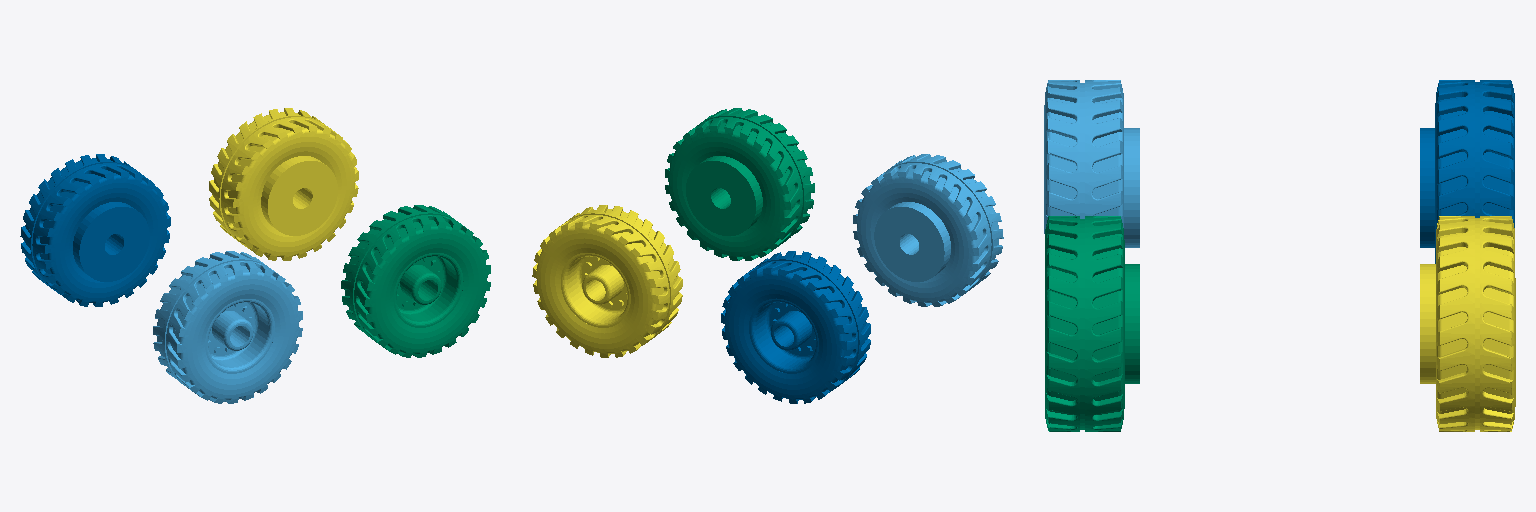
robot.urdf — bobcat-330s:
<?xml version="1.0" ?>
<robot name="bobcat-330s">



<link name="base_link">
  <inertial>
    <origin rpy="0 0 0" xyz="-0.29170401469522367 0.004971637347210251 0.7284934442045696"/>
    <mass value="2365"/>
    <inertia ixx="5628.0162182817285" ixy="2.4416892505657586" ixz="745.4541965134918" iyy="9309.898666110948" iyz="0.06741359436135497" izz="10573.428316139072"/>
  </inertial>
  <visual>
    <origin rpy="0 0 0" xyz="0 0 0"/>
    <geometry>
      <mesh filename="meshes/base_link.stl" scale="0.001 0.001 0.001"/>
    </geometry>

  </visual>
  <collision>
    <origin rpy="0 0 0" xyz="0 0 0"/>
    <geometry>
      <mesh filename="meshes/base_link.stl" scale="0.001 0.001 0.001"/>
    </geometry>
  </collision>
</link>

<link name="base_link1exel_641">
    <contact>
      <lateral_friction value=".8"/>
      <rolling_friction value="0.0"/>
      <stiffness value="300000"/>
      <damping value="10000"/>
    </contact>

  <inertial>
    <origin rpy="0 0 0" xyz="-8.044513555116595e-05 0.15796911018747128 2.572880642870423e-06"/>
    <mass value="50"/>
    <inertia ixx="57.587582324585696" ixy="-0.01953915141757534" ixz="-0.0003163463438227154" iyy="96.06267594298868" iyz="-0.00027627143111885744" izz="57.58765084877268"/>
  </inertial>
  <visual>
    <origin rpy="0 0 0" xyz="0.661731 0.880337 -0.415921"/>
    <geometry>
      <mesh filename="meshes/base_link1exel_641.stl" scale="0.001 0.001 0.001"/>
    </geometry>

  </visual>
  <collision>
    <origin rpy="0 0 0" xyz="0.661731 0.880337 -0.415921"/>
    <geometry>
      <mesh filename="meshes/base_link1exel_641.stl" scale="0.001 0.001 0.001"/>
    </geometry>
  </collision>
</link>

<link name="base_link1exel_631">
    <contact>
      <lateral_friction value=".8"/>
      <rolling_friction value="0.0"/>
      <stiffness value="300000"/>
      <damping value="10000"/>
    </contact>

  <inertial>
    <origin rpy="0 0 0" xyz="-8.018334581239017e-05 0.1579689917452647 2.5728806462566034e-06"/>
    <mass value="50"/>
    <inertia ixx="57.58758248482047" ixy="-0.019696513965300255" ixz="-0.00022570406440536317" iyy="96.06269607747356" iyz="-0.0002762252806860488" izz="57.58767114349075"/>
  </inertial>
  <visual>
    <origin rpy="0 0 0" xyz="-0.569502 0.87971 -0.415921"/>
    <geometry>
      <mesh filename="meshes/base_link1exel_631.stl" scale="0.001 0.001 0.001"/>
    </geometry>

  </visual>
  <collision>
    <origin rpy="0 0 0" xyz="-0.569502 0.87971 -0.415921"/>
    <geometry>
      <mesh filename="meshes/base_link1exel_631.stl" scale="0.001 0.001 0.001"/>
    </geometry>
  </collision>
</link>

<link name="base_link1exel_611">
    <contact>
      <lateral_friction value=".8"/>
      <rolling_friction value="0.0"/>
      <stiffness value="300000"/>
      <damping value="10000"/>
    </contact>

  <inertial>
    <origin rpy="0 0 0" xyz="8.13974223724534e-05 -0.1579695524833601 -2.8473205121448686e-06"/>
    <mass value="50"/>
    <inertia ixx="57.58741378809077" ixy="-0.019474817953778256" ixz="0.000292632642810986" iyy="96.06239399450237" iyz="-0.00016449597416112738" izz="57.58750069141661"/>
  </inertial>
  <visual>
    <origin rpy="0 0 0" xyz="-0.5686 -0.89029 -0.415921"/>
    <geometry>
      <mesh filename="meshes/base_link1exel_611.stl" scale="0.001 0.001 0.001"/>
    </geometry>

  </visual>
  <collision>
    <origin rpy="0 0 0" xyz="-0.5686 -0.89029 -0.415921"/>
    <geometry>
      <mesh filename="meshes/base_link1exel_611.stl" scale="0.001 0.001 0.001"/>
    </geometry>
  </collision>
</link>

<link name="base_link1exel_621">
    <contact>
      <lateral_friction value=".8"/>
      <rolling_friction value="0.0"/>
      <stiffness value="300000"/>
      <damping value="10000"/>
    </contact>

  <inertial>
    <origin rpy="0 0 0" xyz="8.11356322826251e-05 -0.15796943404115726 -2.8473205160861603e-06"/>
    <mass value="50"/>
    <inertia ixx="57.58741395163236" ixy="-0.019635417430095004" ixz="0.00020199154442934741" iyy="96.06237353620259" iyz="-0.00016454212413918867" izz="57.587480396657384"/>
  </inertial>
  <visual>
    <origin rpy="0 0 0" xyz="0.662633 -0.889663 -0.415921"/>
    <geometry>
      <mesh filename="meshes/base_link1exel_621.stl" scale="0.001 0.001 0.001"/>
    </geometry>

  </visual>
  <collision>
    <origin rpy="0 0 0" xyz="0.662633 -0.889663 -0.415921"/>
    <geometry>
      <mesh filename="meshes/base_link1exel_621.stl" scale="0.001 0.001 0.001"/>
    </geometry>
  </collision>
</link>

<joint name="base_link1_Rev1" type="continuous">
  <origin rpy="0 0 0" xyz="-0.661731 -0.880337 0.415921"/>
  <parent link="base_link"/>
  <child link="base_link1exel_641"/>
  <axis xyz="-0.000509 1.0 0.0"/>
</joint>
<transmission name="base_link1_Rev1_tran">
  <type>transmission_interface/SimpleTransmission</type>
  <joint name="base_link1_Rev1">
    <hardwareInterface>PositionJointInterface</hardwareInterface>
  </joint>
  <actuator name="base_link1_Rev1_actr">
    <hardwareInterface>PositionJointInterface</hardwareInterface>
    <mechanicalReduction>1</mechanicalReduction>
  </actuator>
</transmission>

<joint name="base_link1_Rev2" type="continuous">
  <origin rpy="0 0 0" xyz="0.569502 -0.87971 0.415921"/>
  <parent link="base_link"/>
  <child link="base_link1exel_631"/>
  <axis xyz="-0.000509 1.0 0.0"/>
</joint>
<transmission name="base_link1_Rev2_tran">
  <type>transmission_interface/SimpleTransmission</type>
  <joint name="base_link1_Rev2">
    <hardwareInterface>PositionJointInterface</hardwareInterface>
  </joint>
  <actuator name="base_link1_Rev2_actr">
    <hardwareInterface>PositionJointInterface</hardwareInterface>
    <mechanicalReduction>1</mechanicalReduction>
  </actuator>
</transmission>

<joint name="base_link1_Rev3" type="continuous">
  <origin rpy="0 0 0" xyz="0.5686 0.89029 0.415921"/>
  <parent link="base_link"/>
  <child link="base_link1exel_611"/>
  <axis xyz="-0.000509 1.0 0.0"/>
</joint>
<transmission name="base_link1_Rev3_tran">
  <type>transmission_interface/SimpleTransmission</type>
  <joint name="base_link1_Rev3">
    <hardwareInterface>PositionJointInterface</hardwareInterface>
  </joint>
  <actuator name="base_link1_Rev3_actr">
    <hardwareInterface>PositionJointInterface</hardwareInterface>
    <mechanicalReduction>10</mechanicalReduction>
  </actuator>
</transmission>

<joint name="base_link1_Rev4" type="continuous">
  <origin rpy="0 0 0" xyz="-0.662633 0.889663 0.415921"/>
  <parent link="base_link"/>
  <child link="base_link1exel_621"/>
  <axis xyz="-0.000509 1.0 0.0"/>
</joint>
<transmission name="base_link1_Rev4_tran">
  <type>transmission_interface/SimpleTransmission</type>
  <joint name="base_link1_Rev4">
    <hardwareInterface>PositionJointInterface</hardwareInterface>
  </joint>
  <actuator name="base_link1_Rev4_actr">
    <hardwareInterface>PositionJointInterface</hardwareInterface>
    <mechanicalReduction>10</mechanicalReduction>
  </actuator>
</transmission>

</robot>

--- Render facts (derived) ---
3 views of the same robot in one strip: view 1: azimuth 30°, elevation 25°; view 2: azimuth 150°, elevation 25°; view 3: azimuth 270°, elevation 25° (orthographic).
Model bobcat-330s with 5 links and 4 joints (4 continuous), rooted at base_link, posed all joints at 0.
Visible links, largest first — view 1: base_link1exel_641, base_link1exel_611, base_link1exel_631, base_link1exel_621; view 2: base_link1exel_631, base_link1exel_641, base_link1exel_611, base_link1exel_621; view 3: base_link1exel_611, base_link1exel_631, base_link1exel_641, base_link1exel_621.
Link boxes in pixels (bbox=[...]): base_link1exel_641: bbox=[153, 251, 302, 403]; base_link1exel_611: bbox=[209, 108, 358, 260]; base_link1exel_631: bbox=[341, 205, 490, 357]; base_link1exel_621: bbox=[20, 154, 170, 306]; base_link1exel_631: bbox=[665, 108, 814, 260]; base_link1exel_641: bbox=[853, 154, 1003, 306]; base_link1exel_611: bbox=[532, 205, 682, 357]; base_link1exel_621: bbox=[721, 251, 870, 403]; base_link1exel_611: bbox=[1420, 216, 1515, 431]; base_link1exel_631: bbox=[1045, 216, 1139, 431]; base_link1exel_641: bbox=[1044, 80, 1139, 247]; base_link1exel_621: bbox=[1420, 80, 1514, 263].
Size in the robot's own frame: 2.06 by 1.8 by 0.8255 metres.
Meshes: 5 distinct files referenced, 4 mesh visuals loaded (4 binary STL); not drawn: 1 (reference not matched to a file when rendering).